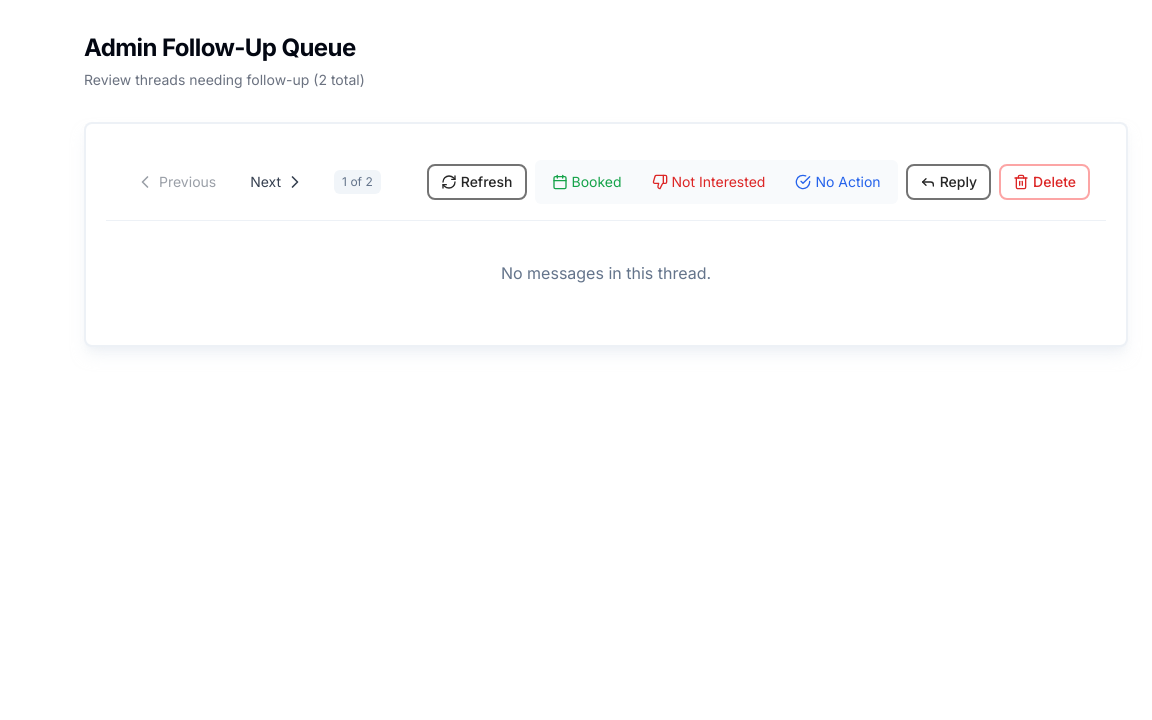
it: AdminFollowUpQueuePage › navigates between threads
Expected: the text "1 of 2" is shown, top-left (334, 170), bottom-right (381, 194)
Click the button "Next". click: x=278, y=182
box: top-left (237, 164), bottom-right (318, 200)
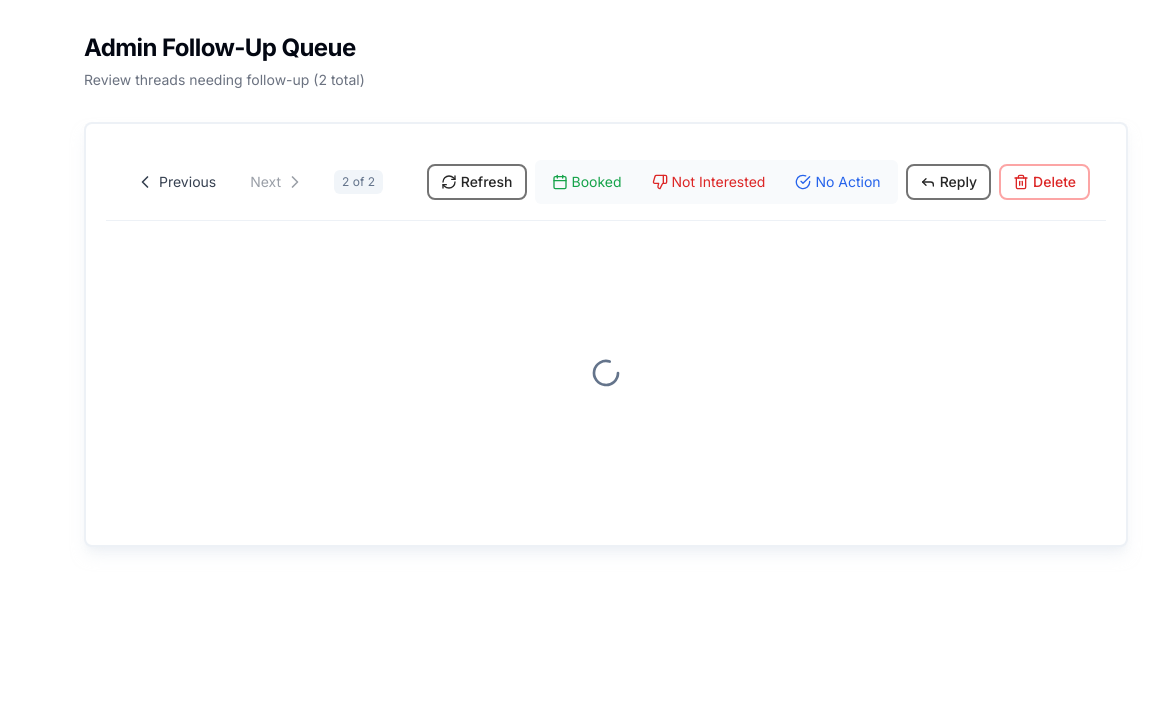
Expected: the text "2 of 2" is shown, top-left (334, 170), bottom-right (383, 194)
Click the button "Previous". click: x=176, y=182
box: top-left (122, 164), bottom-right (229, 200)
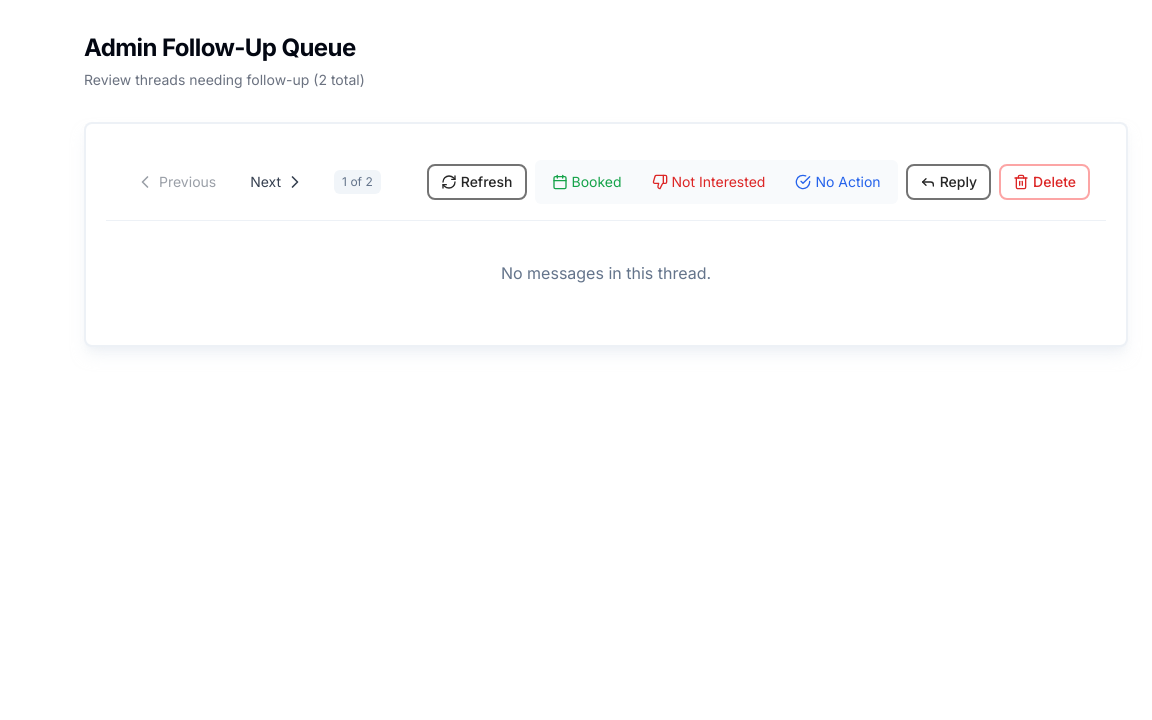
Expected: the text "1 of 2" is shown, top-left (334, 170), bottom-right (381, 194)
